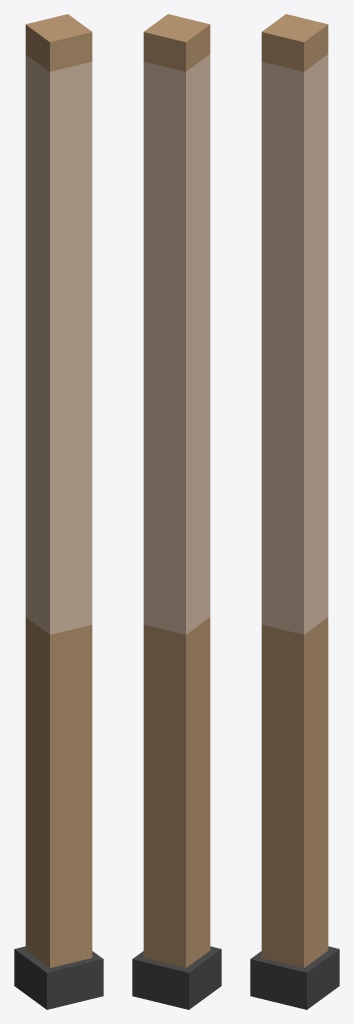
File: corner_02.dae
3 views of the same model, side by side, from view 1: azimuth 30°, elevation 25°; view 2: azimuth 150°, elevation 25°; view 3: azimuth 330°, elevation 25° (orthographic).
Visible parts, largest first — view 1: Untitled; view 2: Untitled; view 3: Untitled.
Boxes of the visible parts, box(x1,y1,x2,y2) form: Untitled: box(14, 14, 103, 1009); Untitled: box(132, 14, 221, 1009); Untitled: box(250, 14, 339, 1009).
Size of the model in its own units: 0.24 by 0.24 by 3.9.
1 material, 1 textured.
